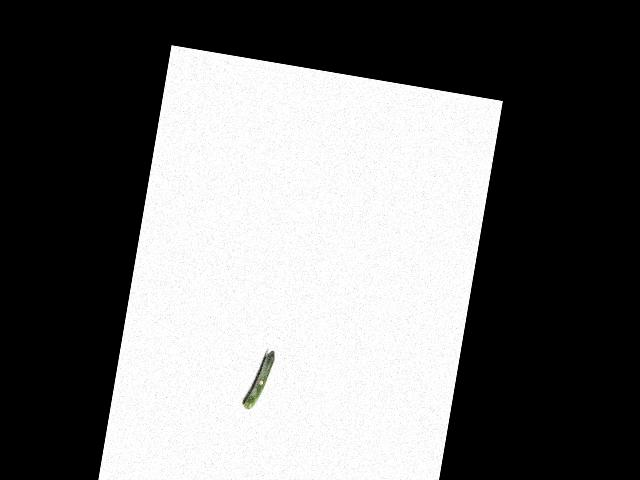cucumber: (242, 347, 275, 412)
